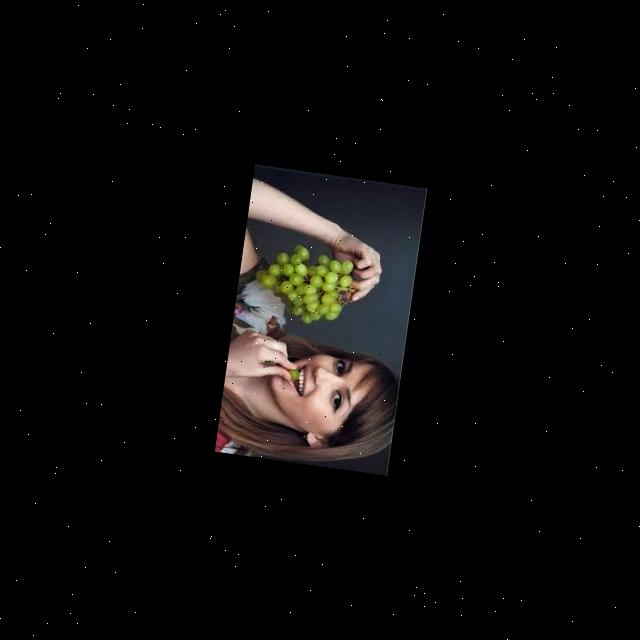grape: (249, 239, 358, 330)
